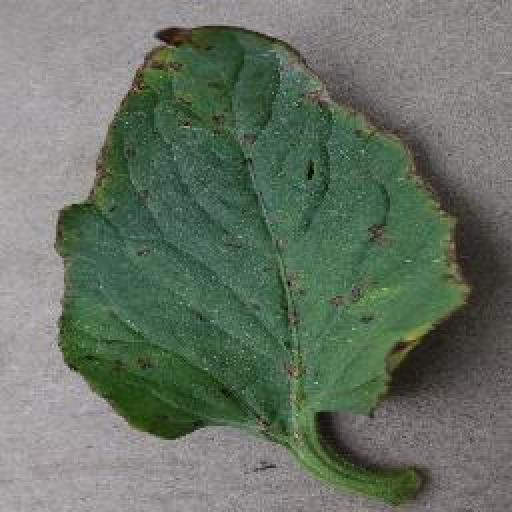Bacterial Spot: (44, 20, 476, 447)
